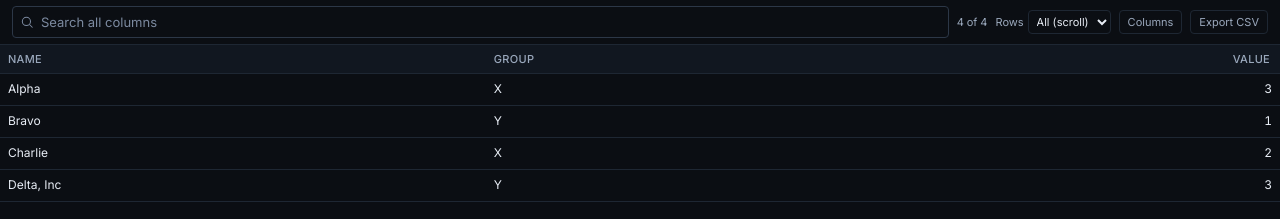
Scenario: DataTable component › shift-click adds a second sort key and shows its priority
Click the button "Group": (515,59) [494,51,536,67]
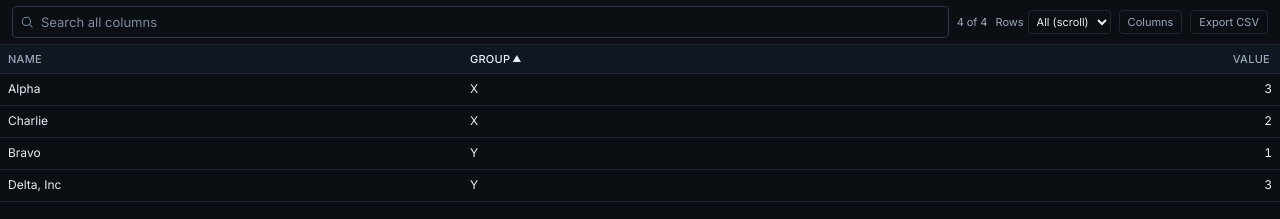
Click the button "Value": (1252,59) [1233,51,1272,67]
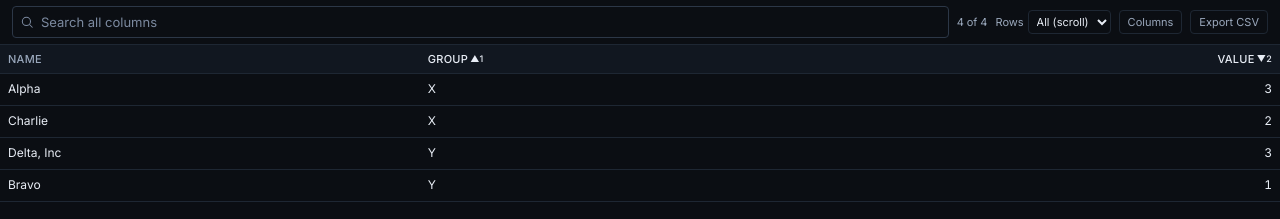
Result: the button "Value ▼2" is shown at [1218,51,1272,67]
